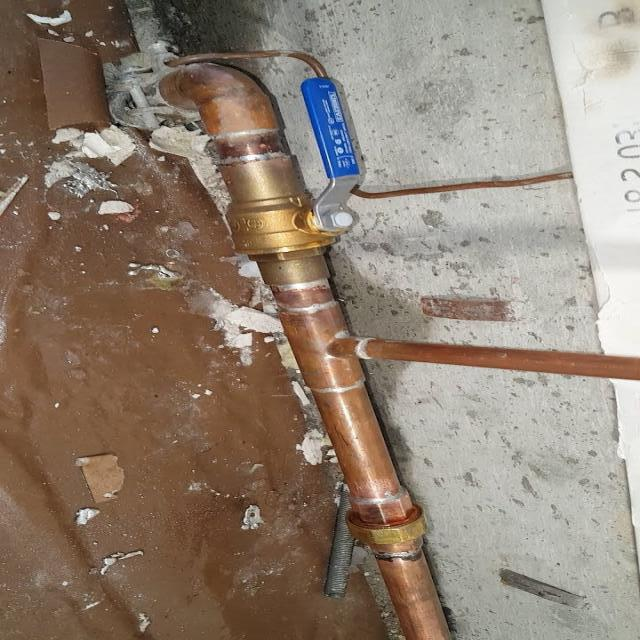opened valve: (204, 73, 383, 274)
